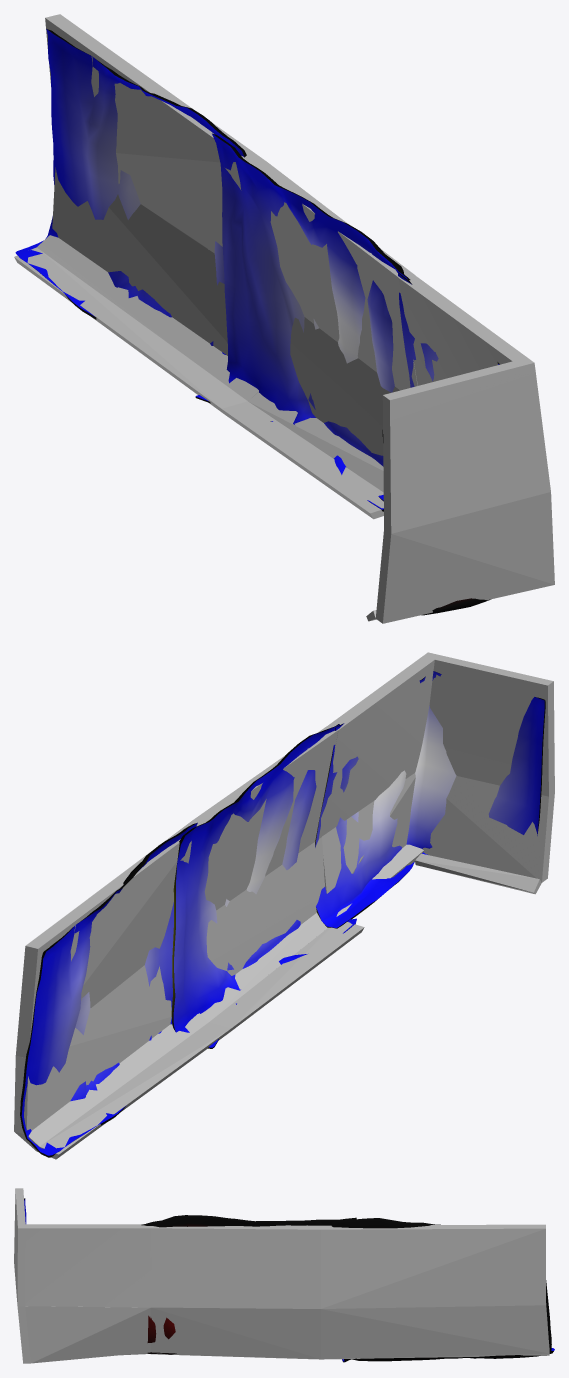
Rendered from Tent_06_Mesh.fbx.
3 renders of one model, top to bottom at view 1: azimuth 30°, elevation 25°; view 2: azimuth 150°, elevation 25°; view 3: azimuth 270°, elevation 25°, orthographic. The views are drawn at different scales.
Parts seen in each view (by area): view 1: Tent_06_LOD0, Tent_06_COL_07, Tent_06_COL_08, Tent_06_COL_01, Tent_06_COL_03, Tent_06_COL_00, Tent_06_COL_02, Tent_06_COL_13, Tent_06_COL_10, Tent_06_COL_04, Tent_06_COL_05, Tent_06_COL_09; view 2: Tent_06_LOD0, Tent_06_COL_01, Tent_06_COL_07, Tent_06_COL_13, Tent_06_COL_03, Tent_06_COL_08, Tent_06_COL_02, Tent_06_COL_00, Tent_06_COL_10, Tent_06_COL_04, Tent_06_COL_05, Tent_06_COL_11 (+3 smaller); view 3: Tent_06_COL_01, Tent_06_COL_00, Tent_06_COL_03, Tent_06_COL_13, Tent_06_COL_02, Tent_06_COL_11, Tent_06_LOD0, Tent_06_COL_07, Tent_06_COL_08, Tent_06_COL_04, Tent_06_COL_09.
Part boxes in pixels (x1,y1,x2,y2): Tent_06_LOD0: (15,29,499,615); Tent_06_COL_07: (382,357,550,533); Tent_06_COL_08: (375,492,554,623); Tent_06_COL_01: (45,14,266,253); Tent_06_COL_03: (52,167,227,355); Tent_06_COL_00: (253,161,417,390); Tent_06_COL_02: (290,317,399,455); Tent_06_COL_13: (398,275,527,385); Tent_06_COL_10: (14,247,247,414); Tent_06_COL_04: (37,235,258,400); Tent_06_COL_05: (222,401,383,519); Tent_06_COL_09: (248,392,383,492); Tent_06_LOD0: (20,671,545,1157); Tent_06_COL_01: (16,820,204,1057); Tent_06_COL_07: (422,652,554,796); Tent_06_COL_13: (322,656,434,835); Tent_06_COL_03: (14,965,171,1133); Tent_06_COL_08: (422,776,554,882); Tent_06_COL_02: (206,837,324,975); Tent_06_COL_00: (193,726,338,910); Tent_06_COL_10: (36,1022,231,1159); Tent_06_COL_04: (15,1013,208,1150); Tent_06_COL_05: (209,922,364,1032); Tent_06_COL_11: (322,773,415,893); Tent_06_COL_01: (321,1224,545,1308); Tent_06_COL_00: (150,1225,320,1308); Tent_06_COL_03: (321,1303,549,1359); Tent_06_COL_13: (24,1224,152,1307); Tent_06_COL_02: (150,1307,320,1359); Tent_06_COL_11: (25,1306,150,1363); Tent_06_LOD0: (24,1198,554,1362); Tent_06_COL_07: (14,1188,25,1306); Tent_06_COL_08: (17,1306,30,1363); Tent_06_COL_04: (321,1353,549,1359); Tent_06_COL_09: (151,1353,320,1359).
Size of what is drawn, in the model's own units: 177 by 255 by 860.
